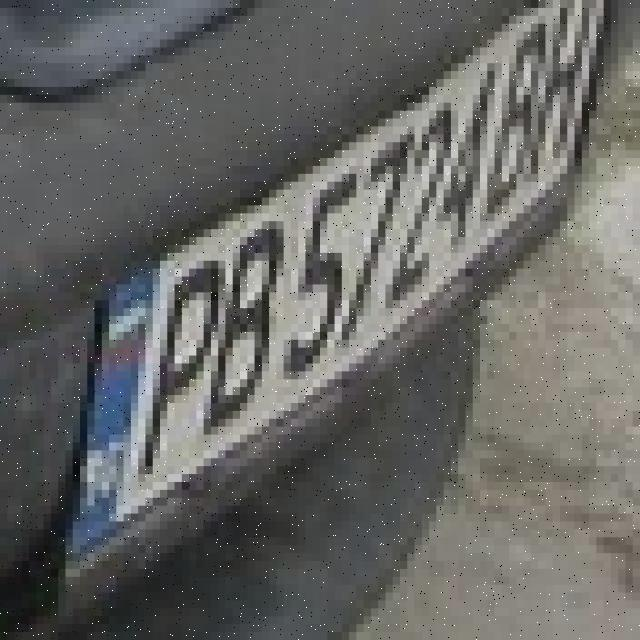licenseplate: (44, 0, 618, 545)
